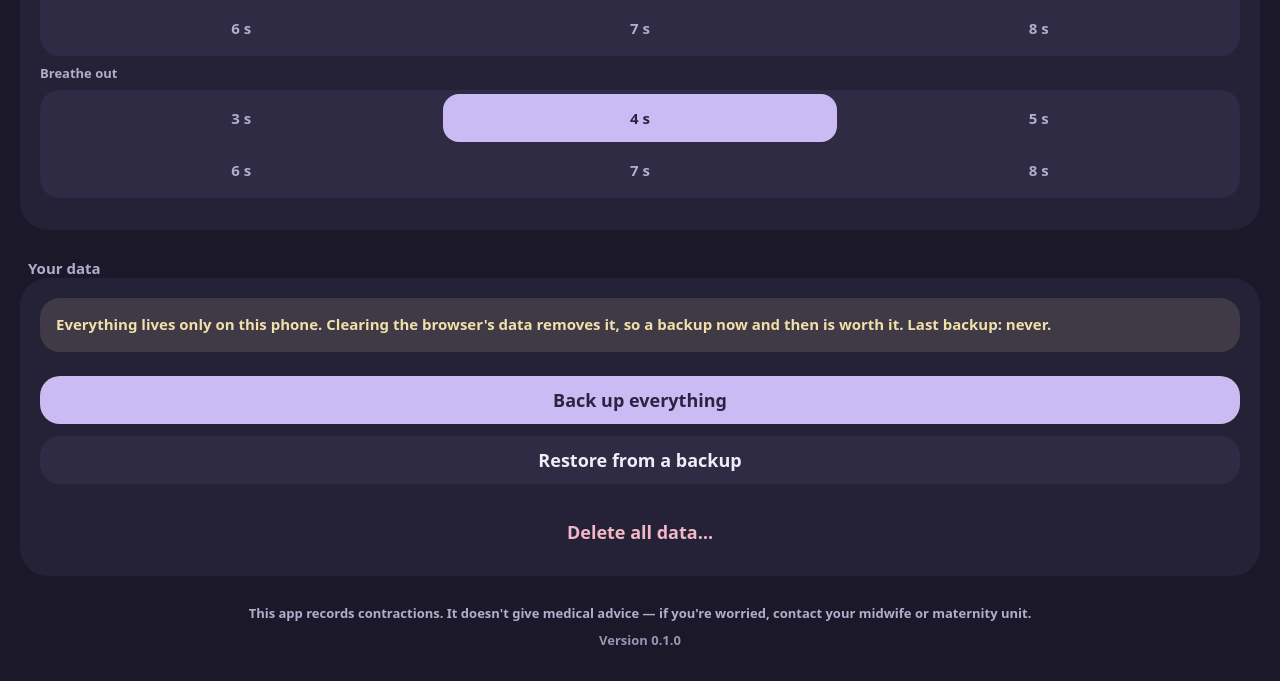
it: backup › saves the file, then records the backup
(page scrolled)
Click the button "Back up everything": (640, 400) top-left (40, 376), bottom-right (1240, 424)
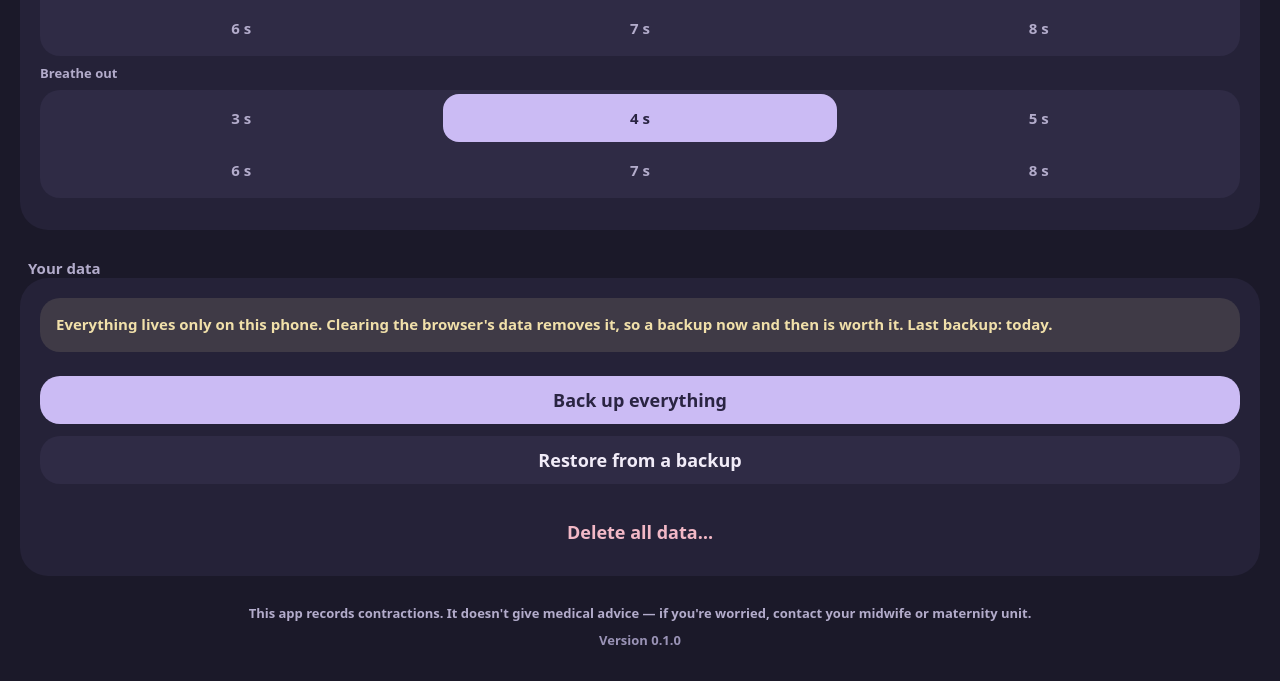
Expected: the text "Last backup: today." is shown, top-left (40, 298), bottom-right (1240, 352)
